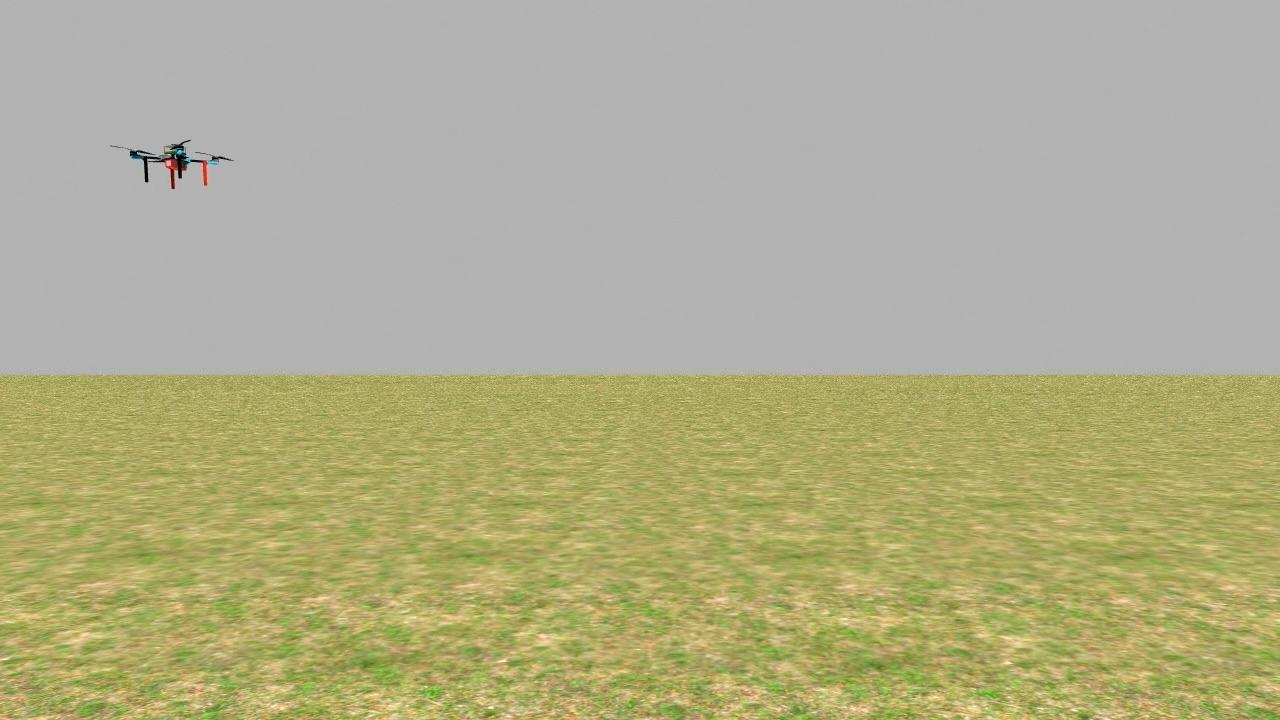UAV: (105, 116, 242, 201)
